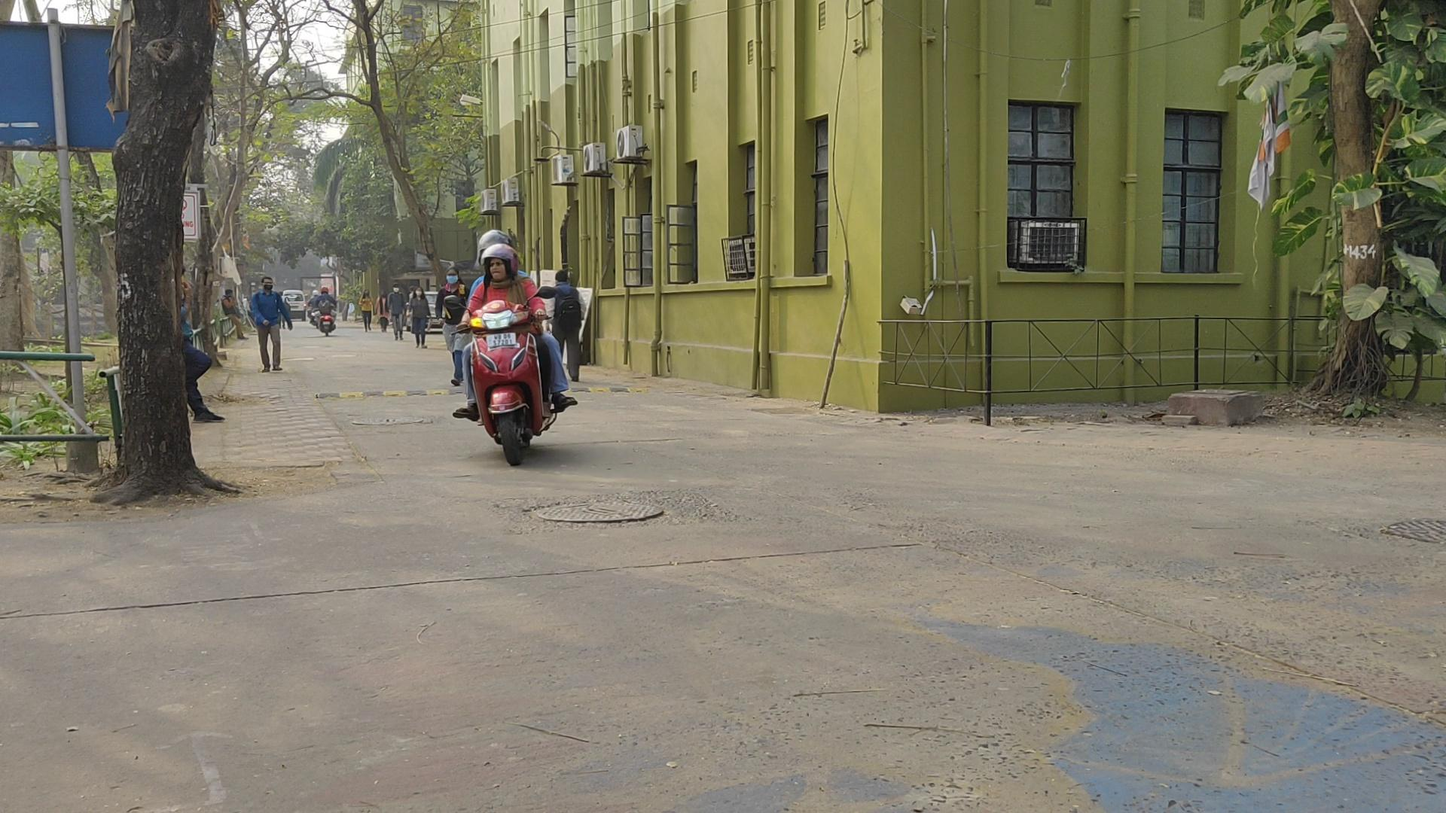bike: (461, 230, 578, 466), (312, 285, 338, 336)
van: (282, 289, 307, 322)
